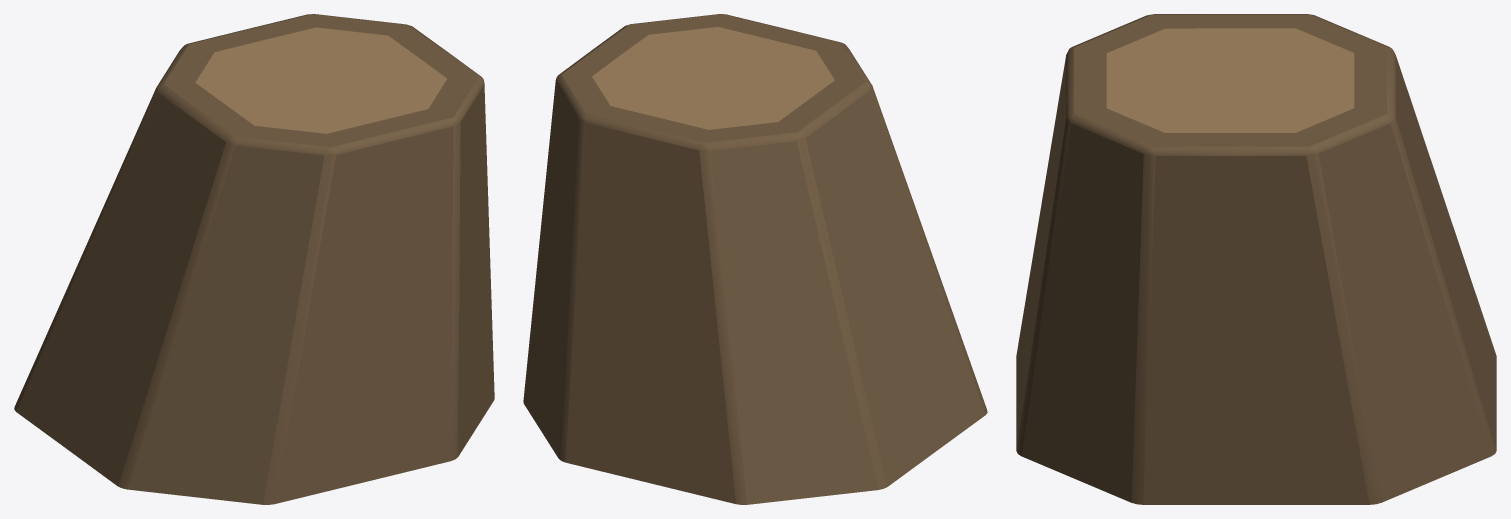
The model's file is trunky.fbx.
The picture shows the model from 3 angles, left to right: view 1: azimuth 30°, elevation 25°; view 2: azimuth 150°, elevation 25°; view 3: azimuth 270°, elevation 25°; orthographic projection. The views are drawn at different scales.
Visible parts, largest first — view 1: Trunk.002; view 2: Trunk.002; view 3: Trunk.002.
Part boxes in pixels (x1,y1,x2,y2): Trunk.002: [14, 14, 494, 504]; Trunk.002: [523, 14, 987, 504]; Trunk.002: [1016, 14, 1496, 504].
Bounding box in the file's own units: 30.93 × 25.07 × 30.93.
